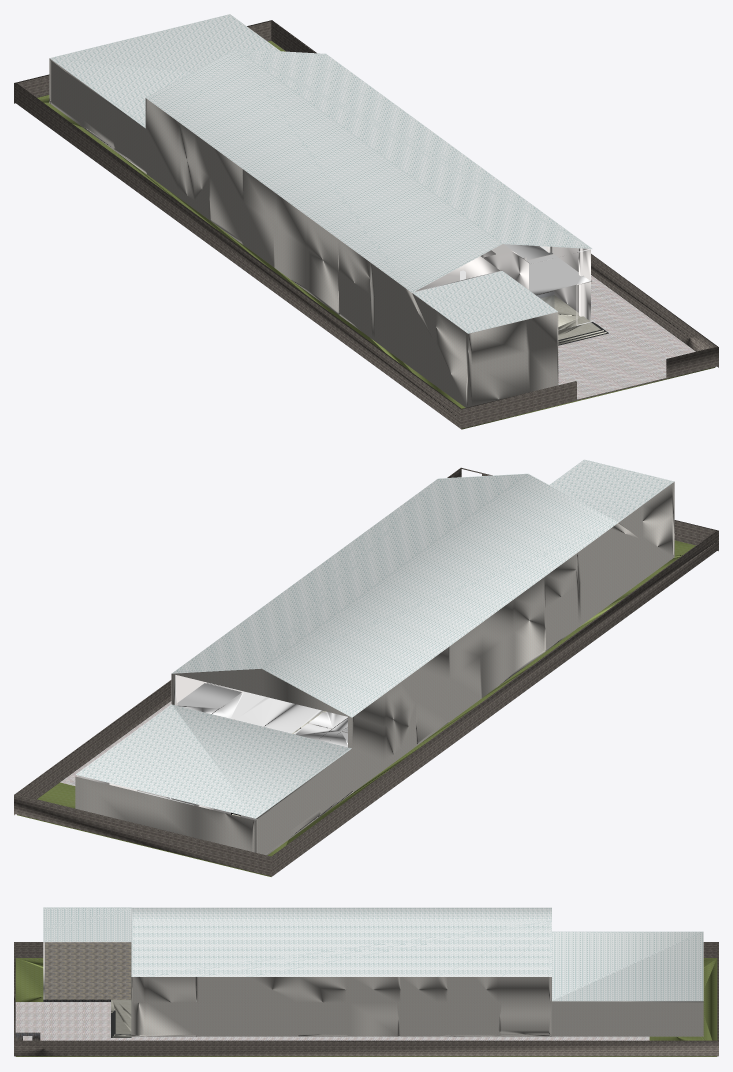
The model's file is Plot 200-27- CompleteV2.glb.
3 renders of one model, top to bottom at view 1: azimuth 30°, elevation 25°; view 2: azimuth 150°, elevation 25°; view 3: azimuth 270°, elevation 25°, orthographic. The views are drawn at different scales.
Parts seen in each view (by area): view 1: Group24; view 2: Group24; view 3: Group24.
Boxes of the visible parts, x1,y1,x2,y2 form: Group24: (14,14,718,429); Group24: (14,459,718,876); Group24: (14,907,718,1056).
Bounding box in the file's own units: 100 × 38.5 × 300.
Materials: 19 (14 with a texture image).
